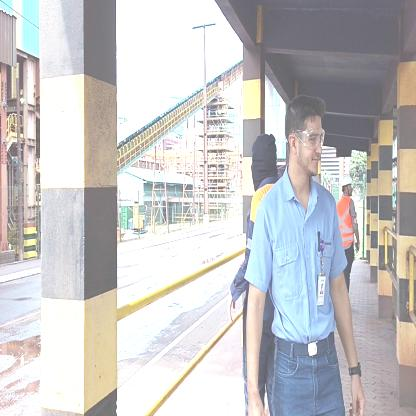Balaclava: (247, 130, 278, 187)
Capacete: (340, 170, 351, 186)
colete: (337, 196, 356, 250)
